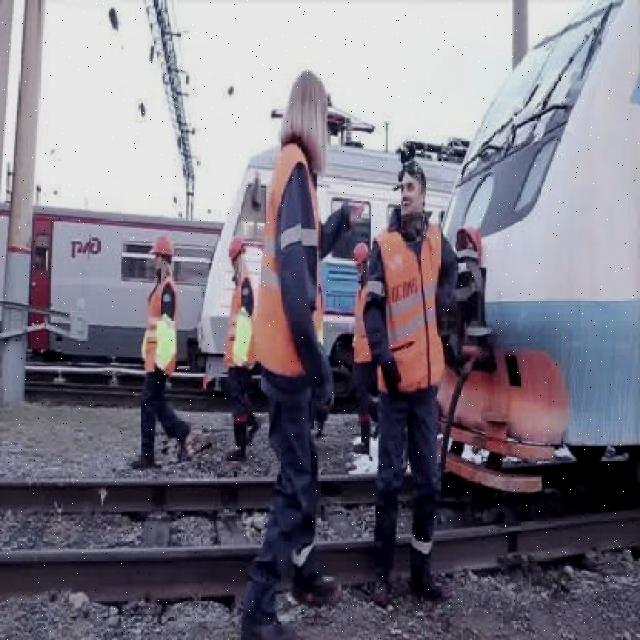Gloves: (380, 356, 402, 394)
Helmet: (454, 226, 482, 254), (150, 235, 176, 258), (353, 242, 369, 270), (228, 240, 244, 266)
Mask: (238, 143, 369, 639), (366, 218, 462, 608), (254, 144, 320, 373), (130, 270, 192, 476), (375, 216, 443, 398), (232, 270, 254, 464), (142, 278, 178, 380), (222, 272, 256, 371), (152, 313, 178, 375), (353, 278, 370, 364), (232, 308, 252, 370)
